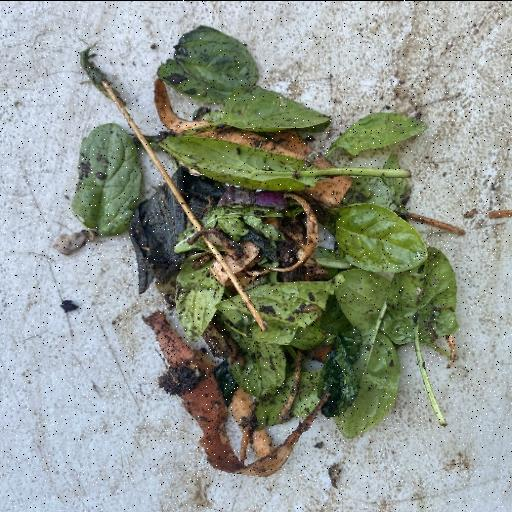Waste: (64, 24, 462, 478)
